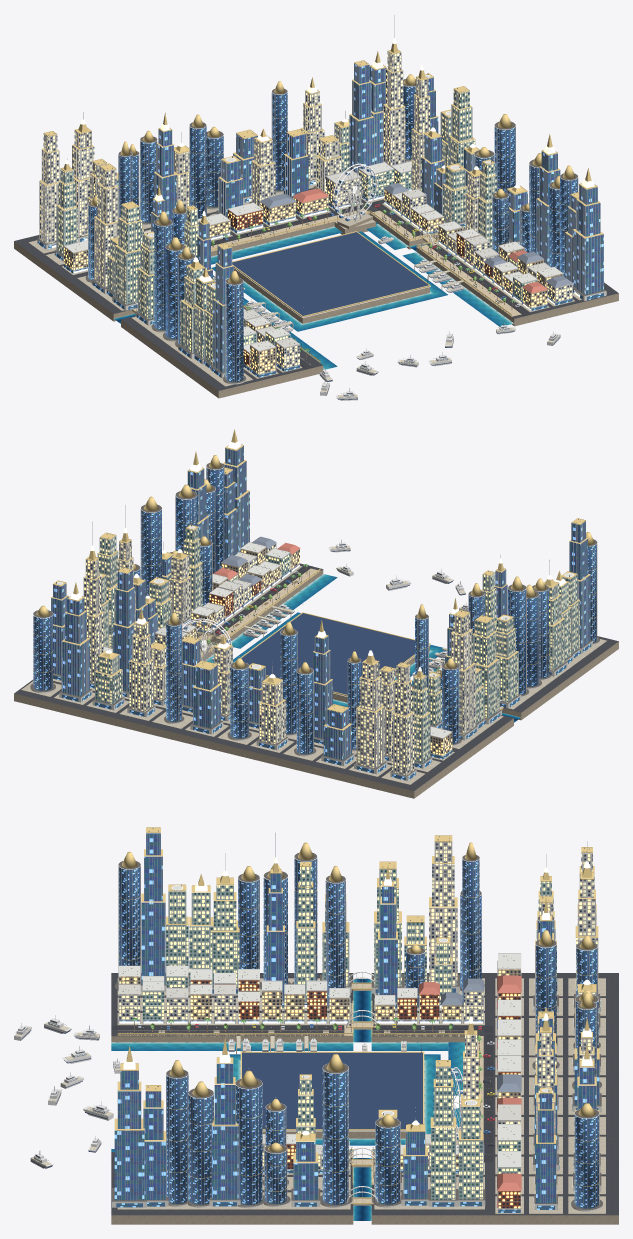
File: origins_waterfront_city.glb
The picture shows the model from 3 angles, top to bottom: view 1: azimuth 30°, elevation 25°; view 2: azimuth 150°, elevation 25°; view 3: azimuth 270°, elevation 25°; orthographic projection. The views are drawn at different scales.
Parts seen in each view (by area): view 1: origins_waterfront_city__facade_glass, origins_waterfront_city__steel, origins_waterfront_city__white, origins_waterfront_city__facade_white, origins_waterfront_city__facade_teal, origins_waterfront_city__gold, origins_waterfront_city__navy, origins_waterfront_city__quay_stone, origins_waterfront_city__water_shore, origins_waterfront_city__facade_stone, origins_waterfront_city__street, origins_waterfront_city__paving (+12 smaller); view 2: origins_waterfront_city__facade_glass, origins_waterfront_city__steel, origins_waterfront_city__facade_white, origins_waterfront_city__white, origins_waterfront_city__facade_teal, origins_waterfront_city__gold, origins_waterfront_city__quay_stone, origins_waterfront_city__navy, origins_waterfront_city__street, origins_waterfront_city__paving, origins_waterfront_city__roof, origins_waterfront_city__facade_stone (+8 smaller); view 3: origins_waterfront_city__facade_glass, origins_waterfront_city__steel, origins_waterfront_city__facade_teal, origins_waterfront_city__white, origins_waterfront_city__street, origins_waterfront_city__gold, origins_waterfront_city__paving, origins_waterfront_city__navy, origins_waterfront_city__facade_white, origins_waterfront_city__quay_stone, origins_waterfront_city__water_shore, origins_waterfront_city__roof (+13 smaller).
Part boxes in pixels (x1,y1,x2,y2): origins_waterfront_city__facade_glass: (38, 63, 603, 382); origins_waterfront_city__steel: (51, 15, 603, 396); origins_waterfront_city__white: (37, 52, 606, 384); origins_waterfront_city__facade_white: (39, 51, 572, 367); origins_waterfront_city__facade_teal: (56, 89, 537, 364); origins_waterfront_city__gold: (39, 43, 603, 362); origins_waterfront_city__navy: (232, 232, 560, 399); origins_waterfront_city__quay_stone: (14, 213, 618, 398); origins_waterfront_city__water_shore: (211, 222, 513, 369); origins_waterfront_city__facade_stone: (64, 189, 562, 373); origins_waterfront_city__street: (14, 188, 618, 390); origins_waterfront_city__paving: (28, 161, 606, 386); origins_waterfront_city__facade_glass: (33, 446, 596, 780); origins_waterfront_city__steel: (33, 446, 597, 762); origins_waterfront_city__facade_white: (84, 540, 475, 775); origins_waterfront_city__white: (30, 526, 599, 780); origins_waterfront_city__facade_teal: (95, 528, 579, 762); origins_waterfront_city__gold: (33, 429, 596, 734); origins_waterfront_city__quay_stone: (14, 569, 618, 798); origins_waterfront_city__navy: (213, 550, 465, 694); origins_waterfront_city__street: (14, 563, 618, 790); origins_waterfront_city__paving: (21, 566, 606, 784); origins_waterfront_city__roof: (30, 463, 599, 775); origins_waterfront_city__facade_stone: (182, 547, 452, 755); origins_waterfront_city__facade_glass: (114, 833, 600, 1212); origins_waterfront_city__steel: (15, 830, 599, 1208); origins_waterfront_city__facade_teal: (143, 867, 555, 1199); origins_waterfront_city__white: (112, 842, 602, 1212); origins_waterfront_city__street: (111, 973, 618, 1215); origins_waterfront_city__gold: (114, 827, 599, 1203); origins_waterfront_city__paving: (117, 978, 605, 1213); origins_waterfront_city__navy: (21, 1026, 422, 1168); origins_waterfront_city__facade_white: (119, 842, 598, 1168); origins_waterfront_city__quay_stone: (111, 1036, 618, 1224); origins_waterfront_city__water_shore: (111, 1042, 464, 1151); origins_waterfront_city__roof: (112, 830, 602, 1210).
Size of what is drawn, in the model's own units: 44 by 17.9 by 46.46.
47 materials, 17 textured.
